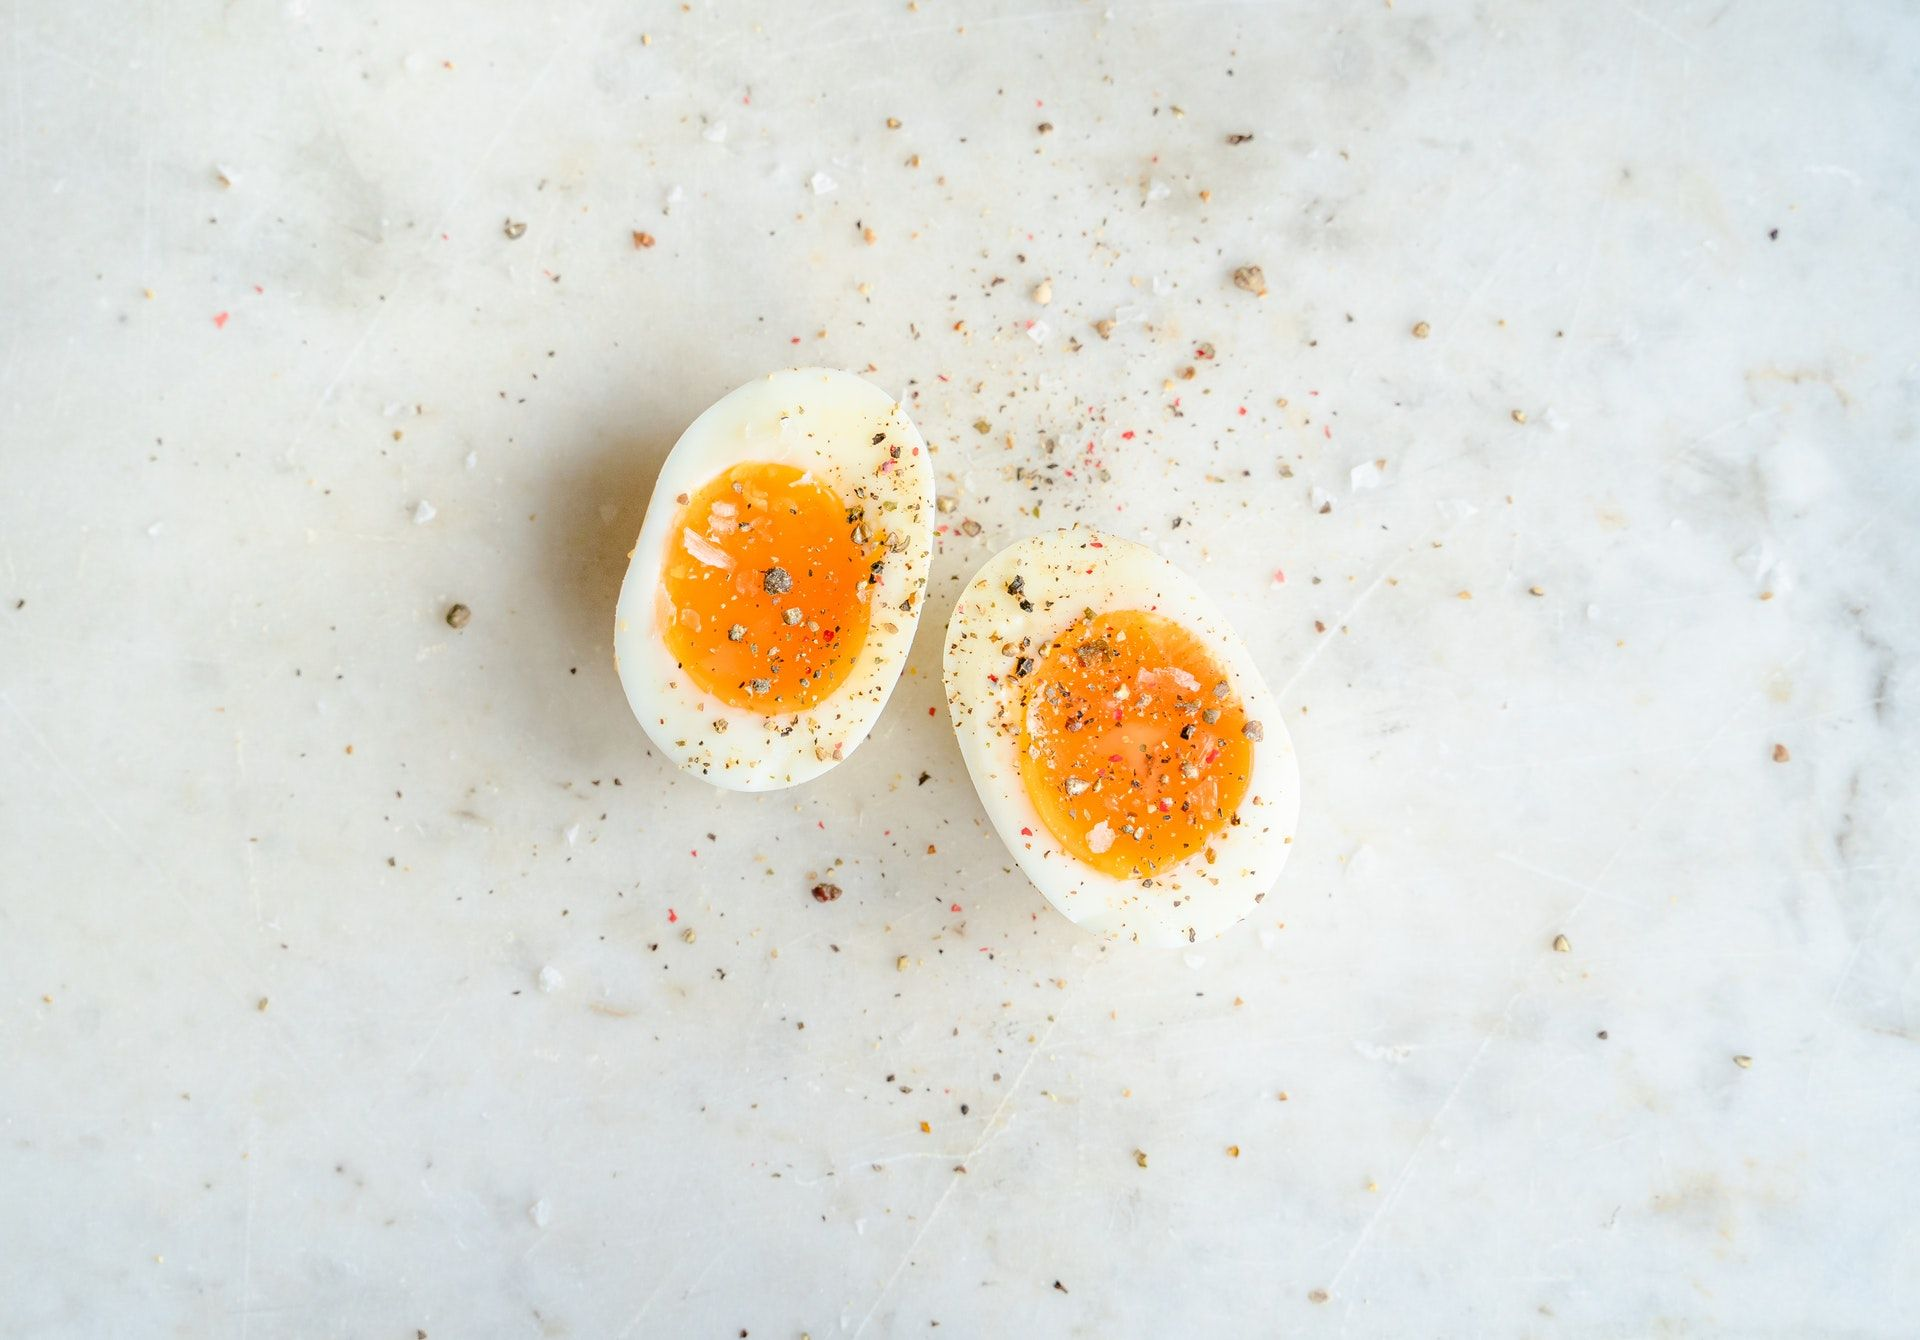Telur: (527, 267, 929, 937), (932, 537, 1291, 971)
